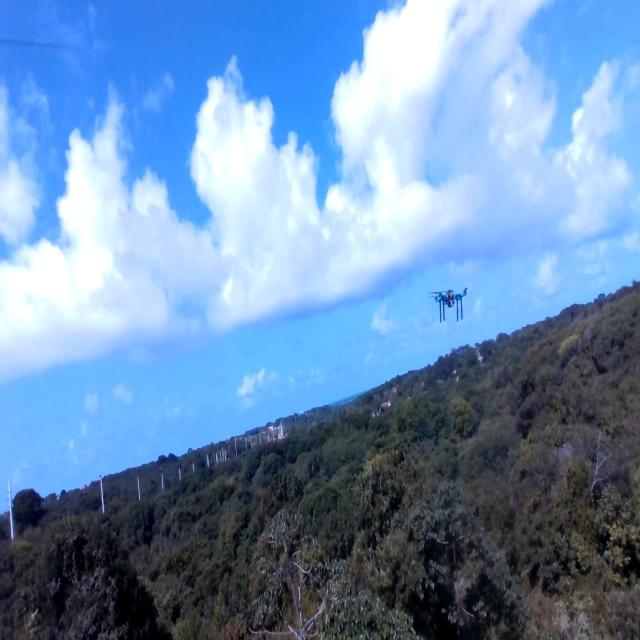-uav-: (429, 280, 473, 330)
